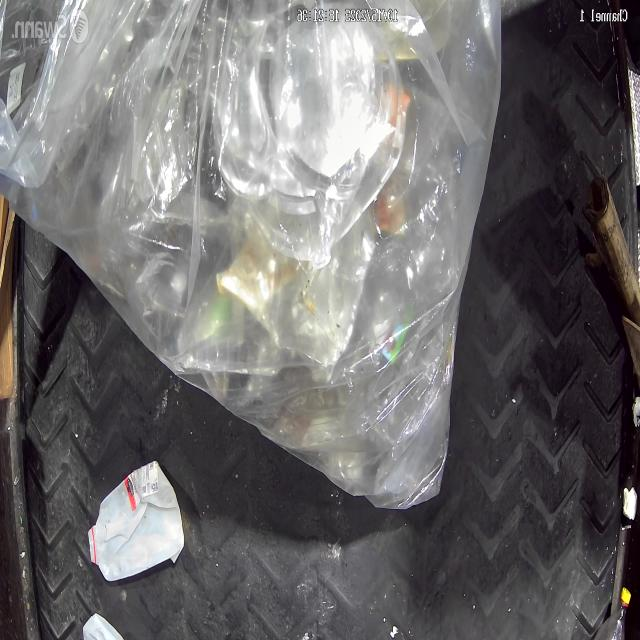milk_jug: (88, 462, 184, 581)
plastic_bottle: (596, 585, 631, 640)
